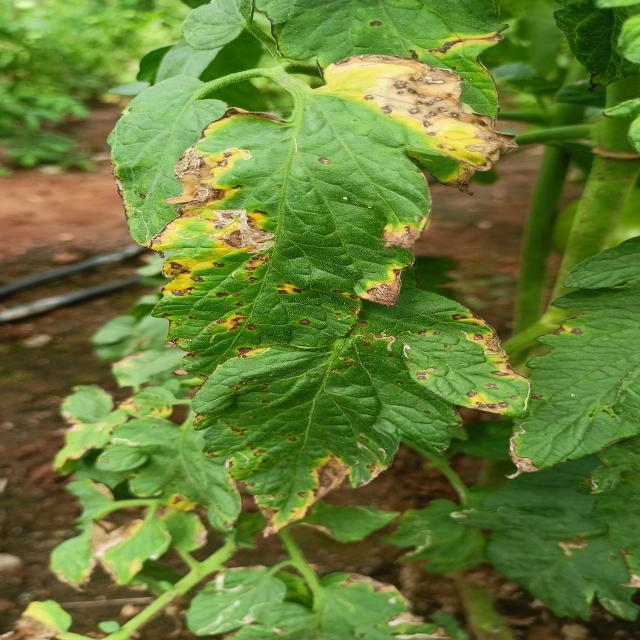Tomato mosaic virus leaf: (140, 106, 434, 386), (186, 348, 410, 542), (315, 52, 523, 199), (392, 296, 524, 424), (526, 309, 640, 421), (327, 5, 510, 67)
